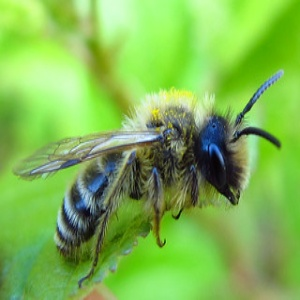bee: (17, 69, 291, 282)
